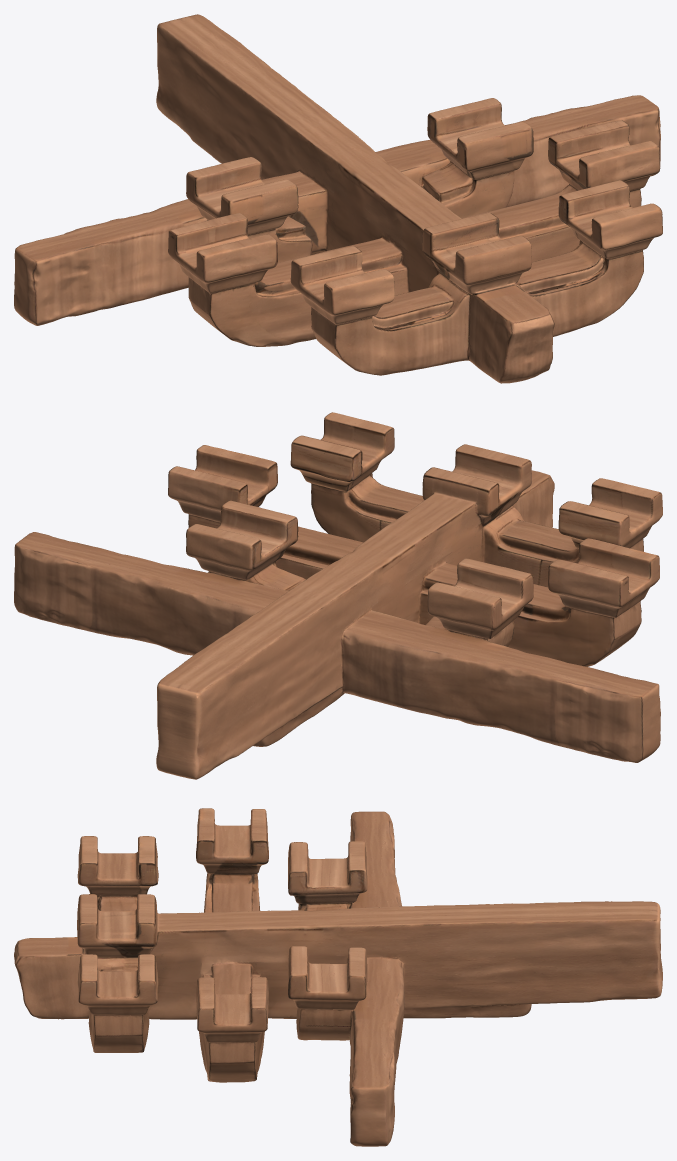
The model's file is 组件集合贰.glb.
3 views of the same model, one above another, from view 1: azimuth 30°, elevation 25°; view 2: azimuth 150°, elevation 25°; view 3: azimuth 270°, elevation 25° (orthographic). The views are drawn at different scales.
Bounding box in the file's own units: 1.89 × 0.3234 × 1.86.
Materials: 1 (1 with a texture image).
